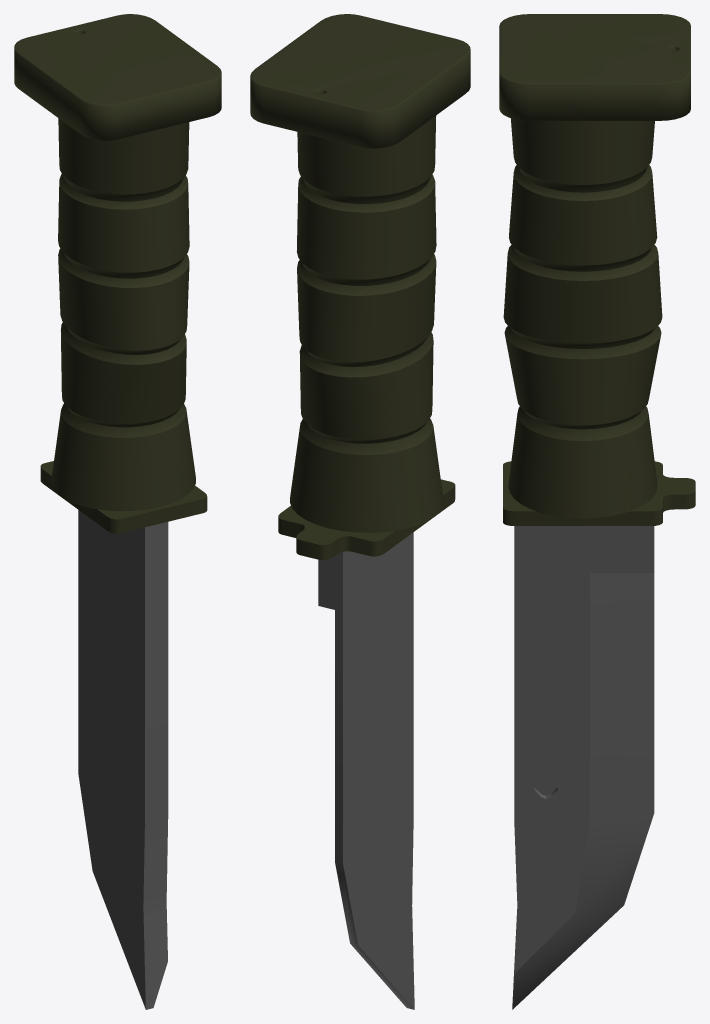
The model's file is knife.fbx.
The picture shows the model from 3 angles, left to right: view 1: azimuth 30°, elevation 25°; view 2: azimuth 150°, elevation 25°; view 3: azimuth 270°, elevation 25°; orthographic projection. The views are drawn at different scales.
Parts seen in each view (by area): view 1: Cylinder, Cube.002, Cube, Cube.001; view 2: Cylinder, Cube.002, Cube, Cube.001; view 3: Cube.002, Cylinder, Cube, Cube.001.
Part boxes in pixels (x1,y1,x2,y2): Cylinder: (51,118,195,511); Cube.002: (78,510,168,1009); Cube: (14,14,221,140); Cube.001: (40,461,207,533); Cylinder: (290,115,443,532); Cube.002: (318,532,414,1009); Cube: (250,14,470,148); Cube.001: (278,479,455,560); Cube.002: (512,526,654,1009); Cylinder: (503,118,662,518); Cube: (499,14,690,120); Cube.001: (503,461,695,525).
Bounding box in the file's own units: 74.95 × 479 × 88.4.
